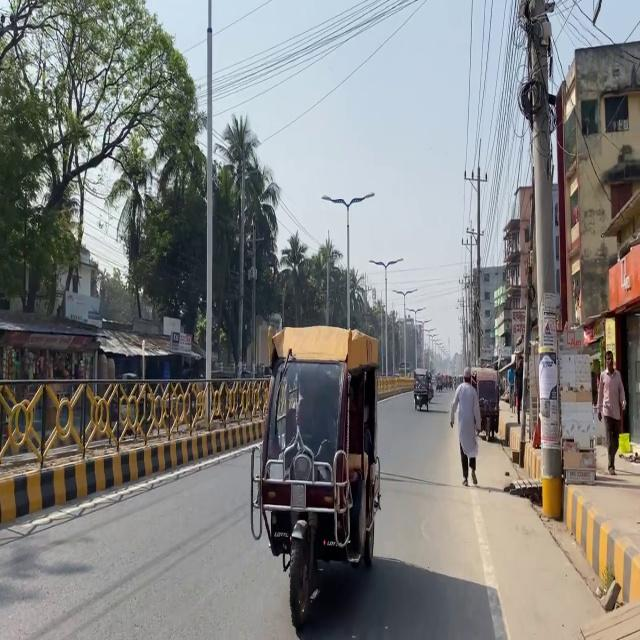Construction-barrier: (0, 431, 264, 505), (530, 498, 620, 610), (578, 598, 639, 638)
Fallen-tree: (412, 373, 433, 411)
Garbage-bin: (594, 350, 626, 475), (449, 367, 482, 486)
Light-pole: (518, 0, 564, 518), (203, 0, 214, 428)
Pole: (0, 350, 258, 528)
Pothole: (443, 425, 640, 616)
Traffic-cone: (249, 323, 382, 628)
